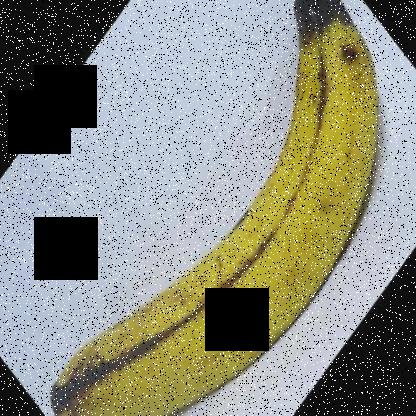ripe: (37, 1, 387, 415)
